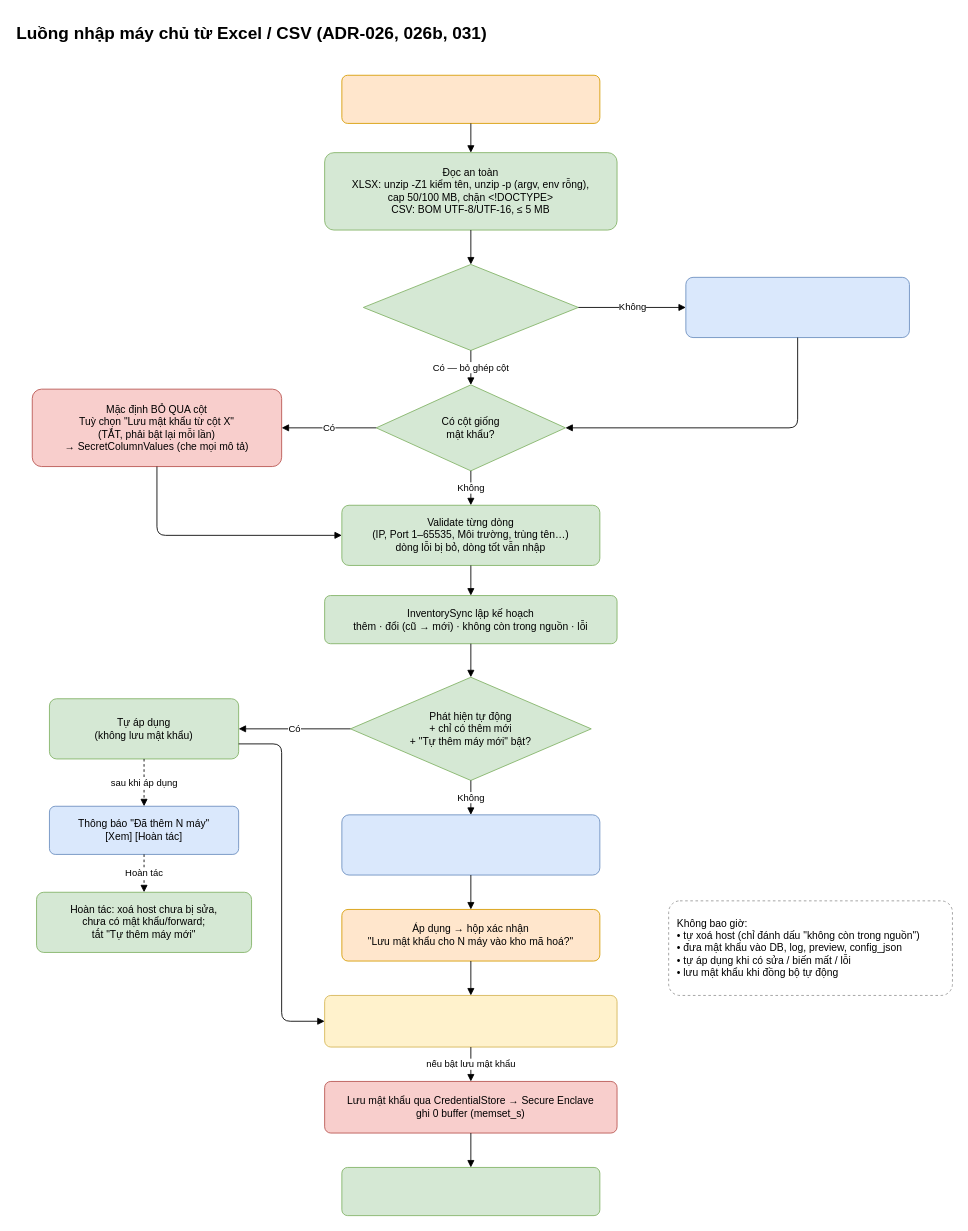
This 968x1231 diagram has some shape labels left out. Each missing label, with the box of its shape:
Chọn file .xlsx / .csv hoặc nguồn có thay đổi (mtime + SHA-256): (341, 74, 600, 123)
Ghép cột đoán theo tiêu đề Việt/Anh, chọn cột khoá (external_id): (685, 276, 909, 338)
Màn xem trước mật khẩu chỉ hiện •••• số host sẽ lưu / đã có mật khẩu: (341, 814, 600, 875)
Một transaction SQLite (lỗi → không ghi gì) địa chỉ đổi → autofill_hold = 1: (324, 995, 617, 1047)
Sinh lại ssh/config nhắc xoá / bảo vệ file Excel gốc: (341, 1167, 600, 1216)
Đúng file mẫu? (sshdesk-template v1): (362, 264, 578, 350)
